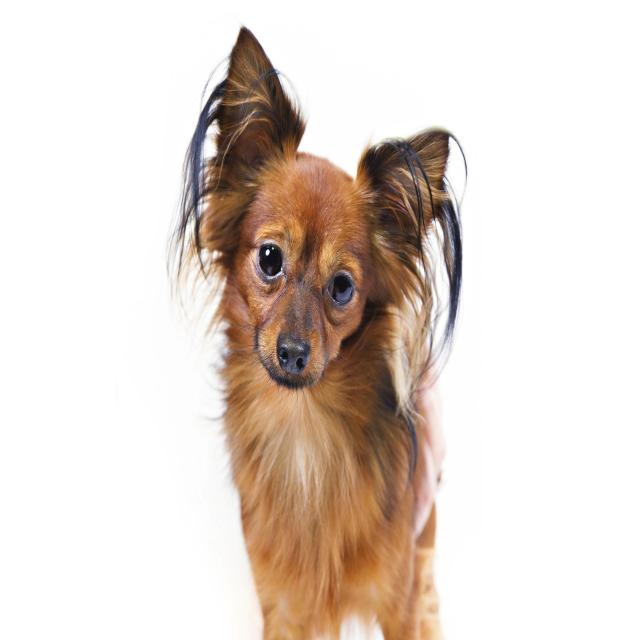Dog: (154, 10, 498, 456)
